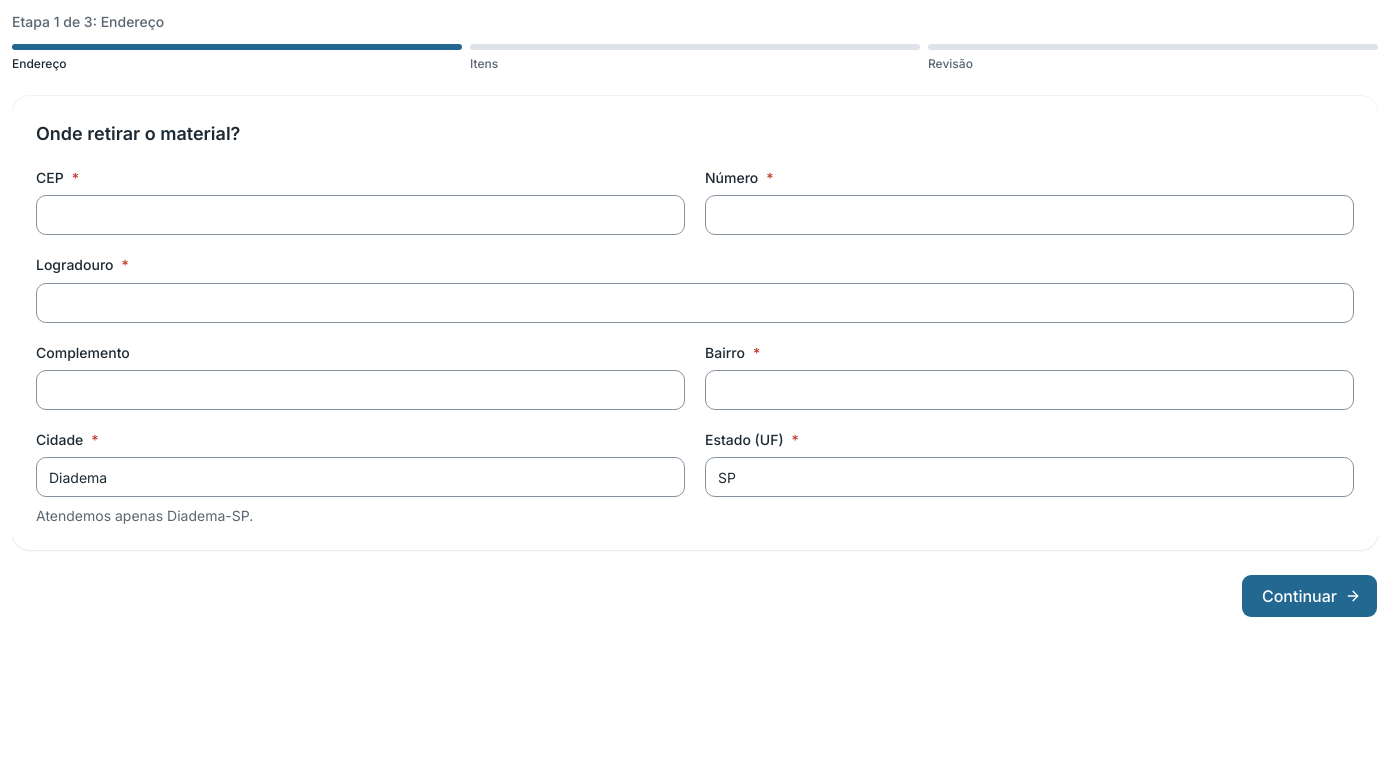
Test: CollectionRequestForm — endereço pelo CEP (DEC-081) › CEP de fora de Diadema-SP é recusado e impede o avanço
Type "01001000" into the field labelled "CEP *". click: (360, 215)
box: x1=36 y1=195 x2=685 y2=235
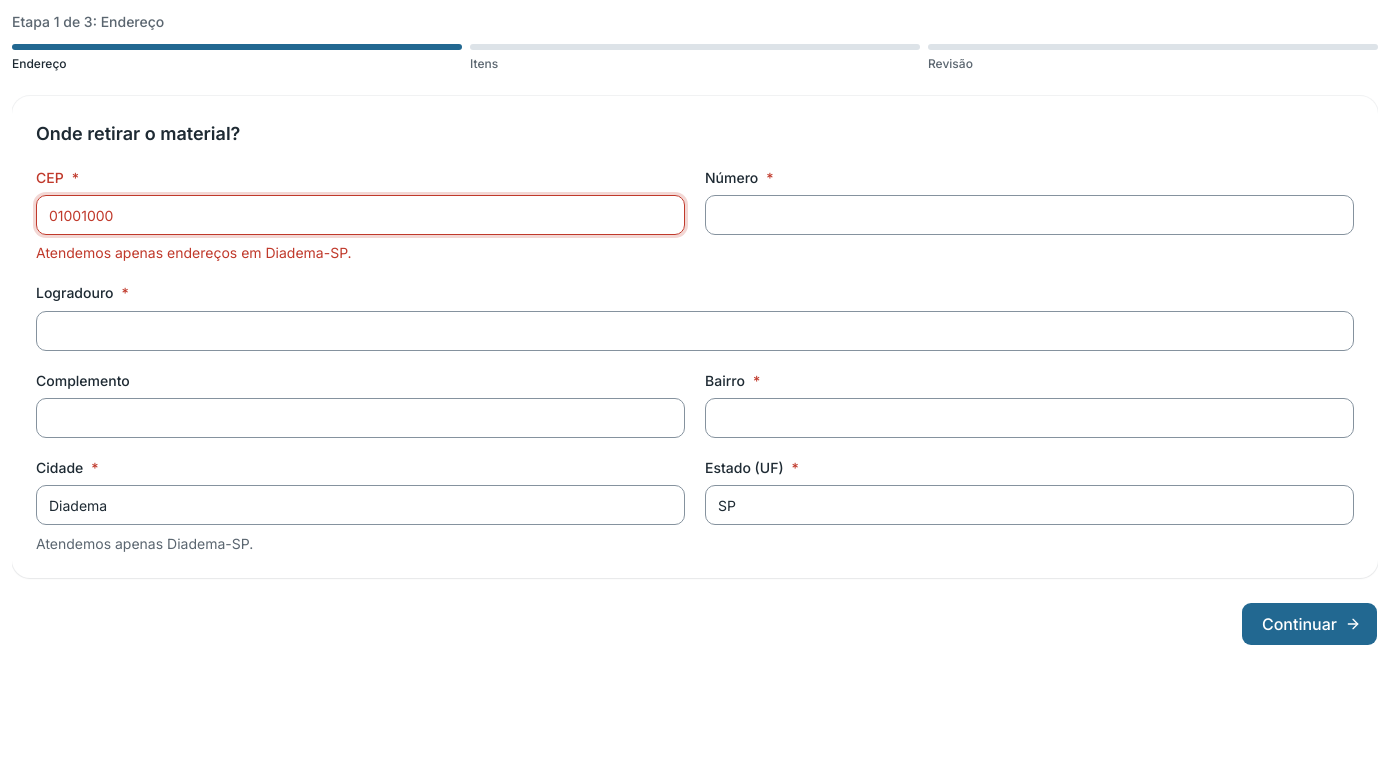
Now the text "Atendemos apenas endereços em Diadema-SP." is shown, box x1=36 y1=244 x2=352 y2=261
Type "10" into the field labelled "Número *". click: (1030, 215)
box: x1=705 y1=195 x2=1354 y2=235
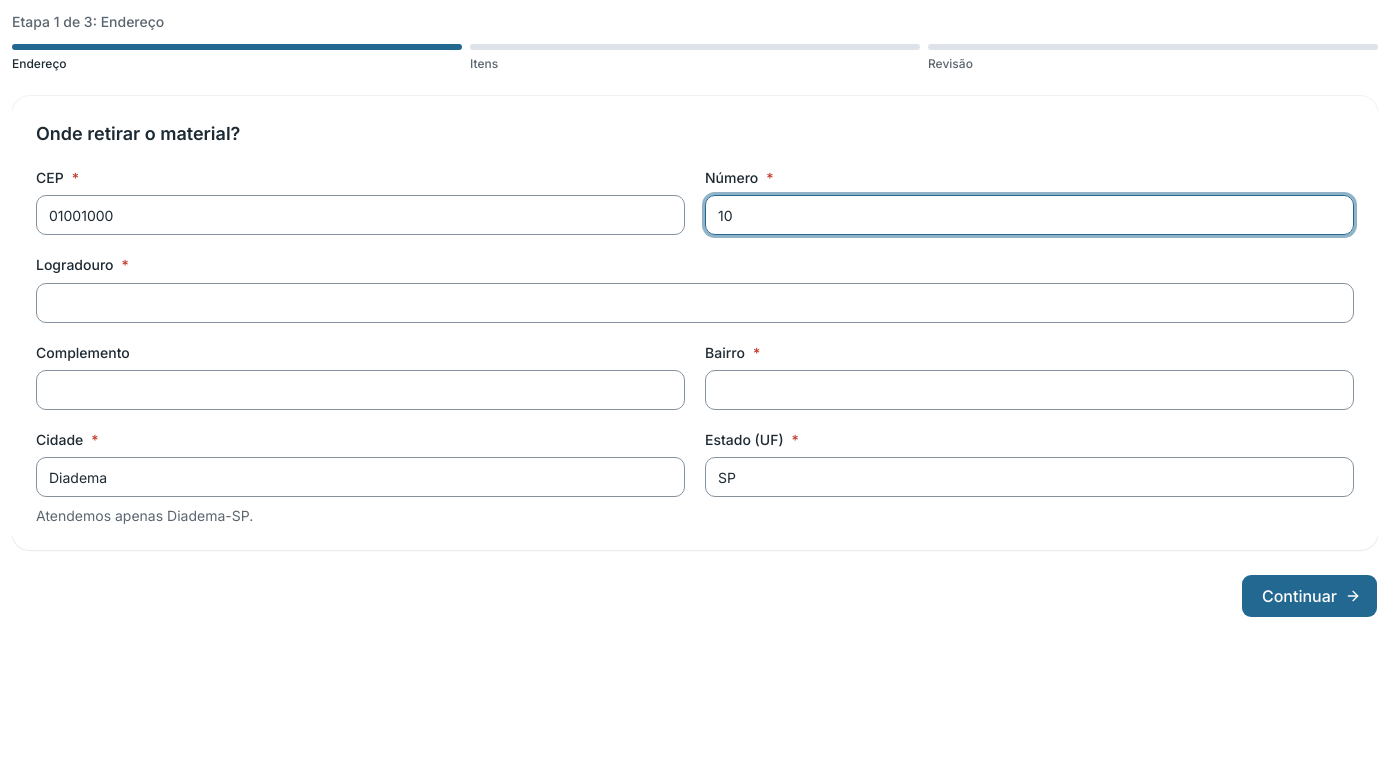
Type "Praça da Sé" into the field labelled "Logradouro *". click: (695, 302)
box: x1=36 y1=282 x2=1354 y2=322
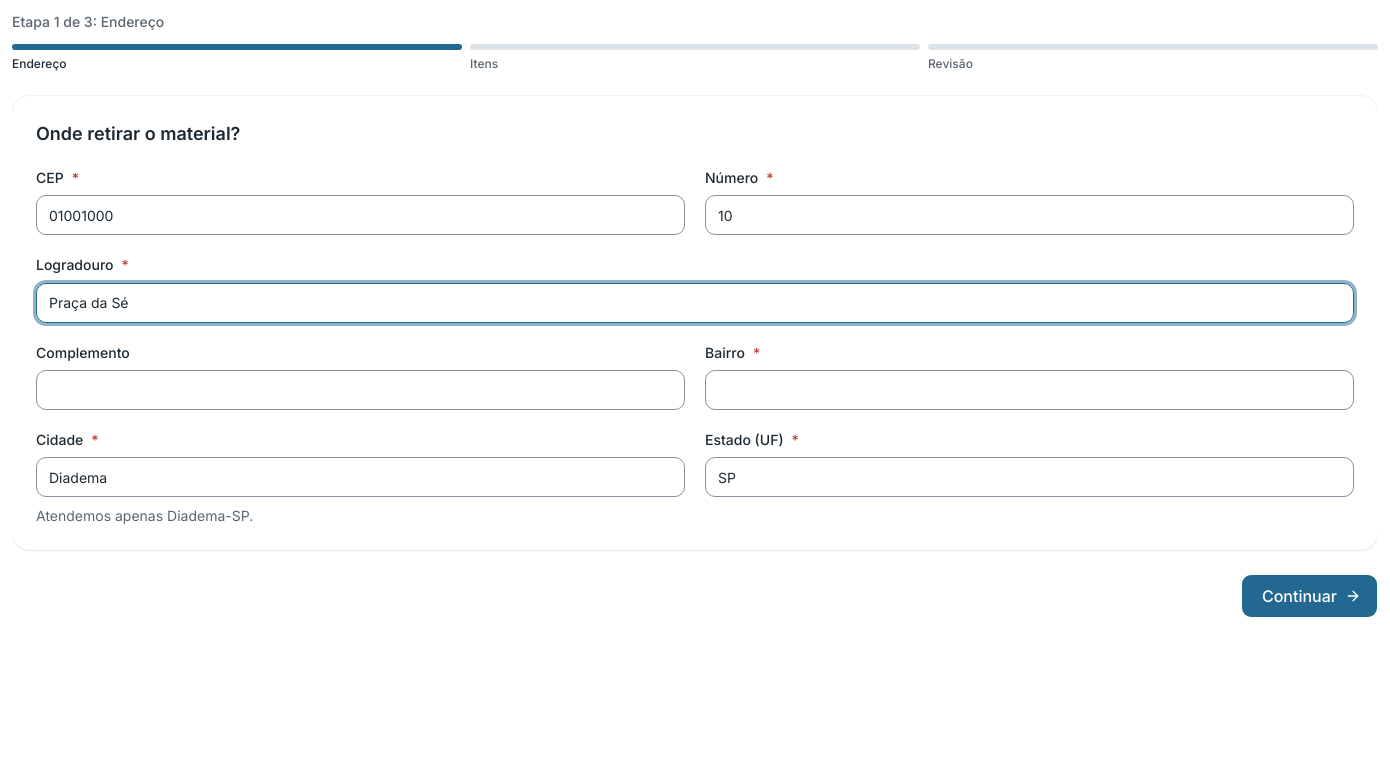
Type "Sé" into the field labelled "Bairro *". click: (1030, 390)
box: x1=705 y1=370 x2=1354 y2=410
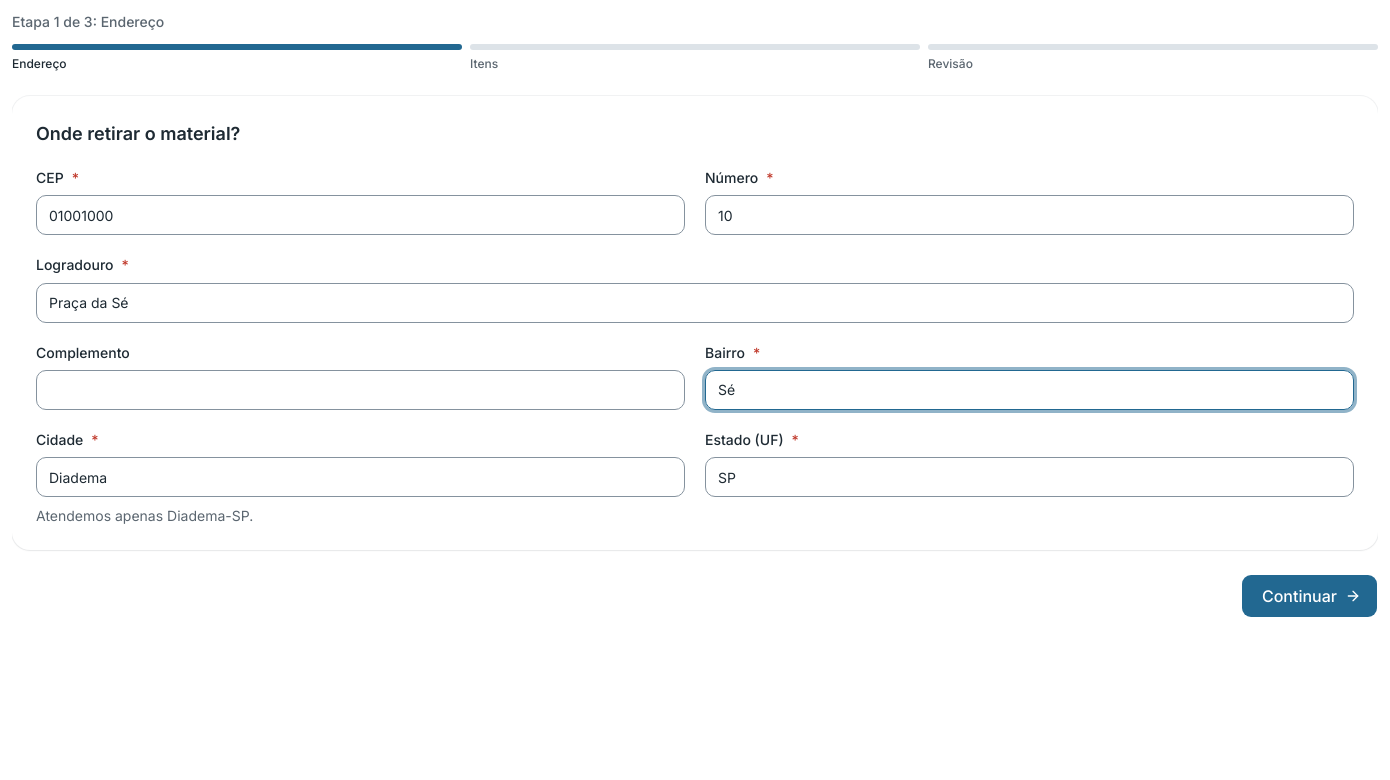
Click the button "Continuar". click: (1310, 596)
box: x1=1241 y1=574 x2=1378 y2=618
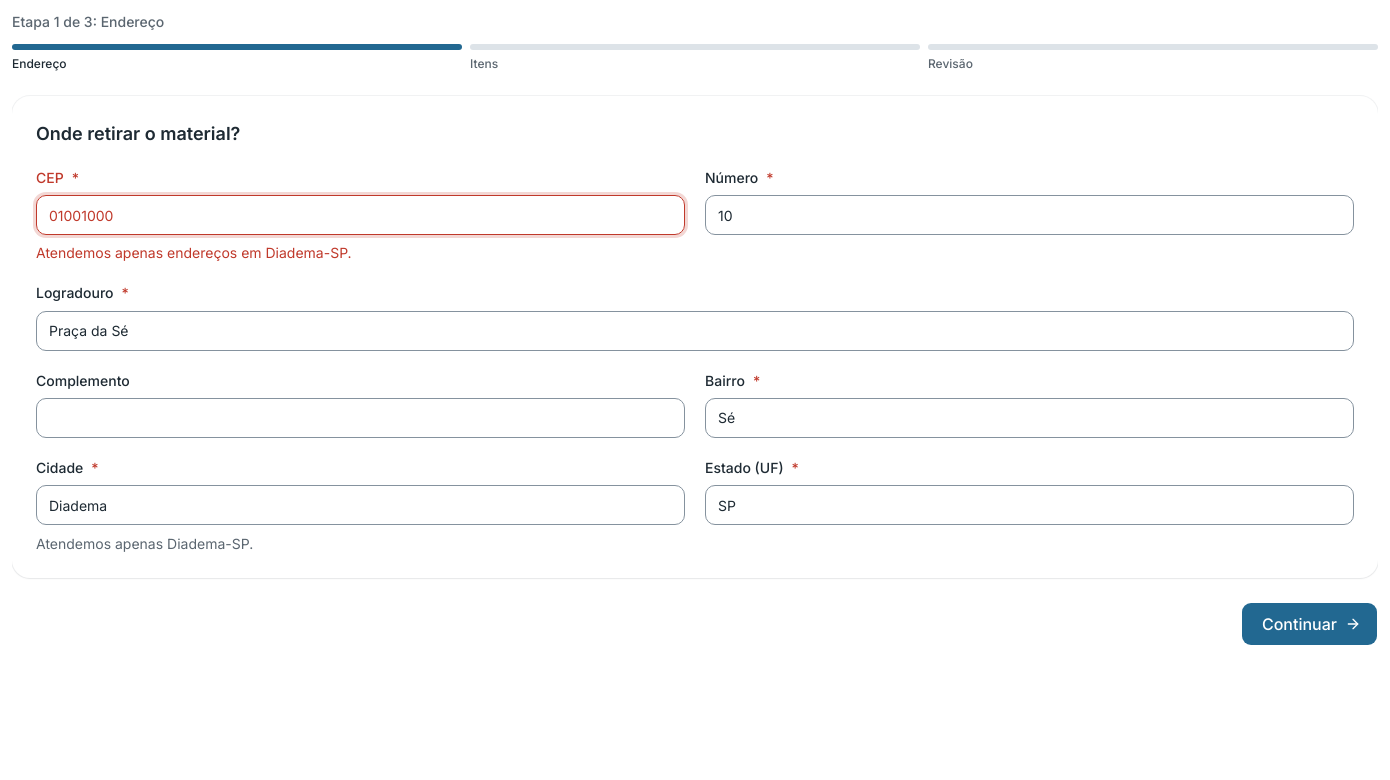
Expected: the text "Etapa 1 de 3: Endereço" is shown, x1=12 y1=13 x2=164 y2=30
Now the text "Atendemos apenas endereços em Diadema-SP." is shown, box x1=36 y1=244 x2=352 y2=261
